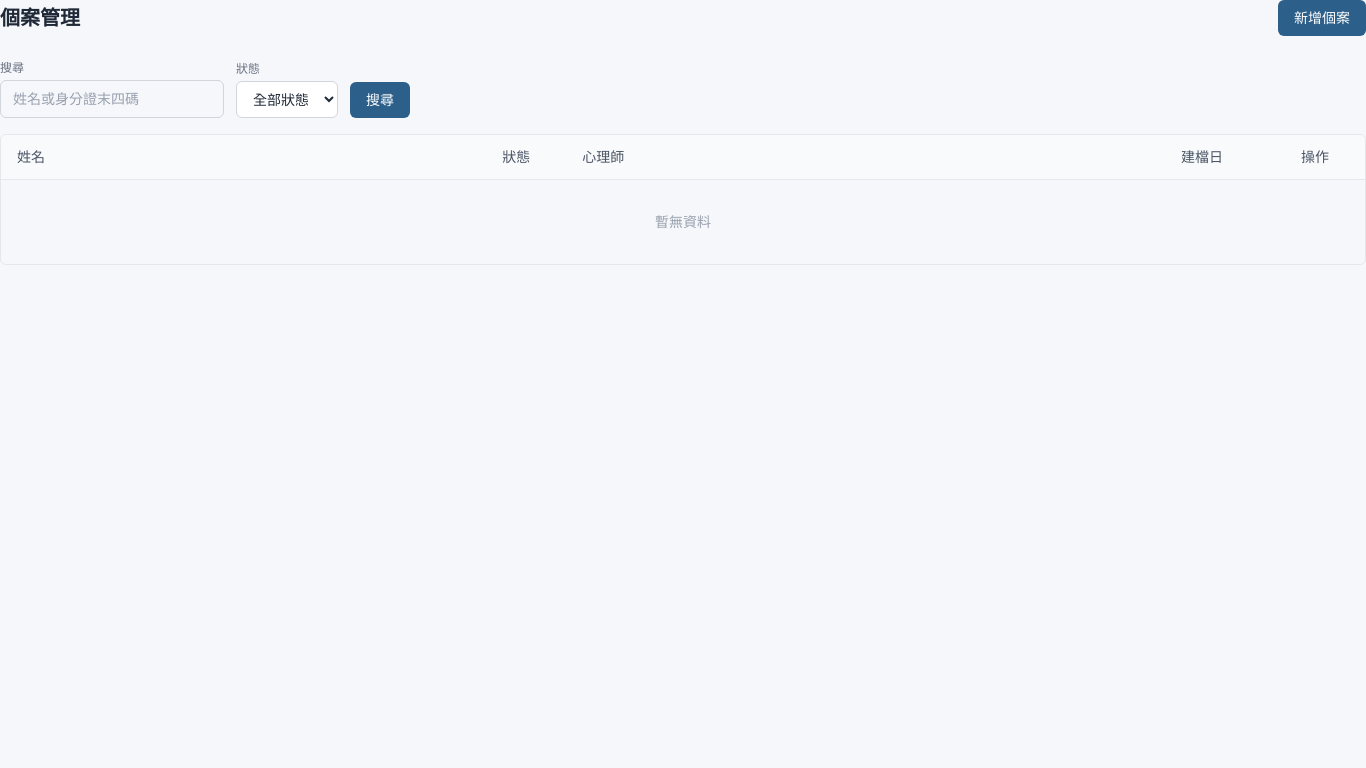
Test: ClientListView 建立個案 › 後端回傳初始帳密時，顯示給櫃檯交付
The width and height of the screenshot is (1366, 768).
Click the button "新增個案": [1322, 18] box [1278,0,1365,36]
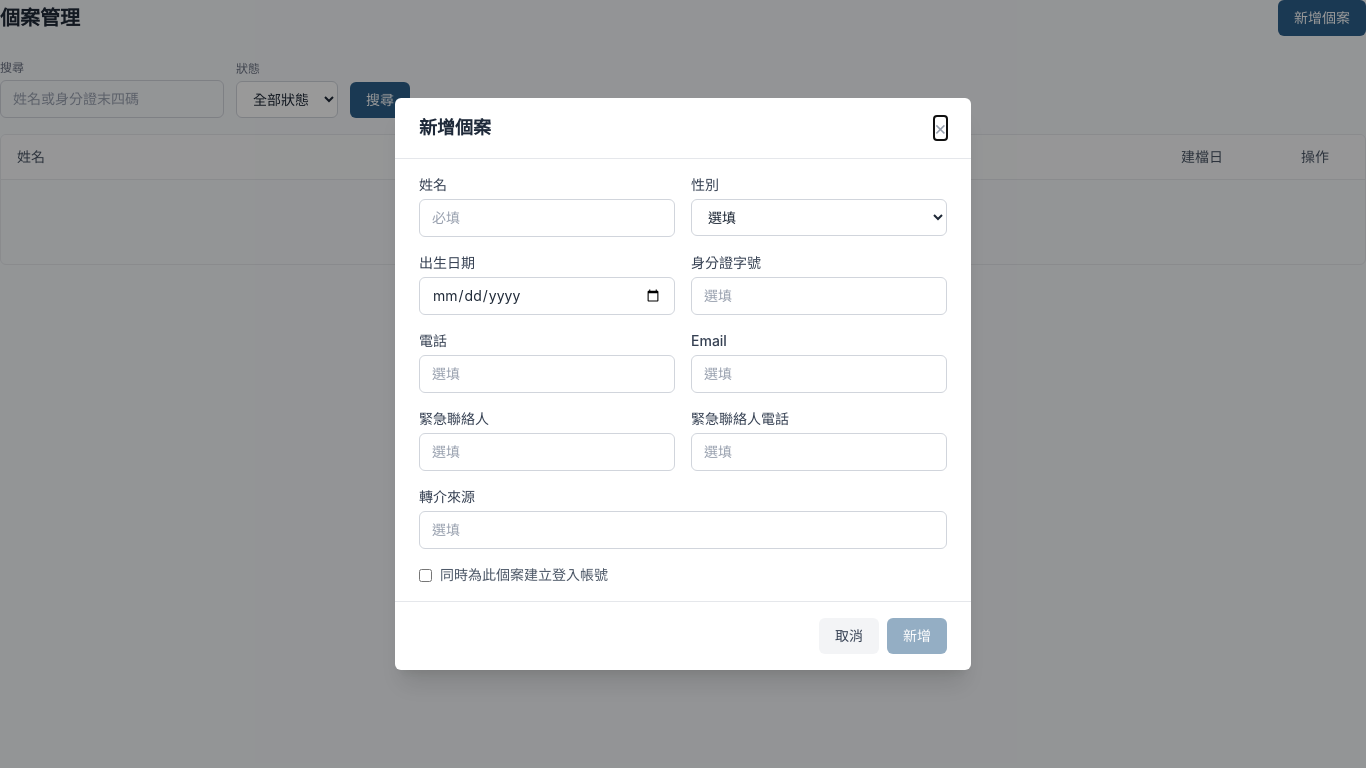
In the field with placeholder "必填": [547, 218] box [419,199,675,237], type "王小明"
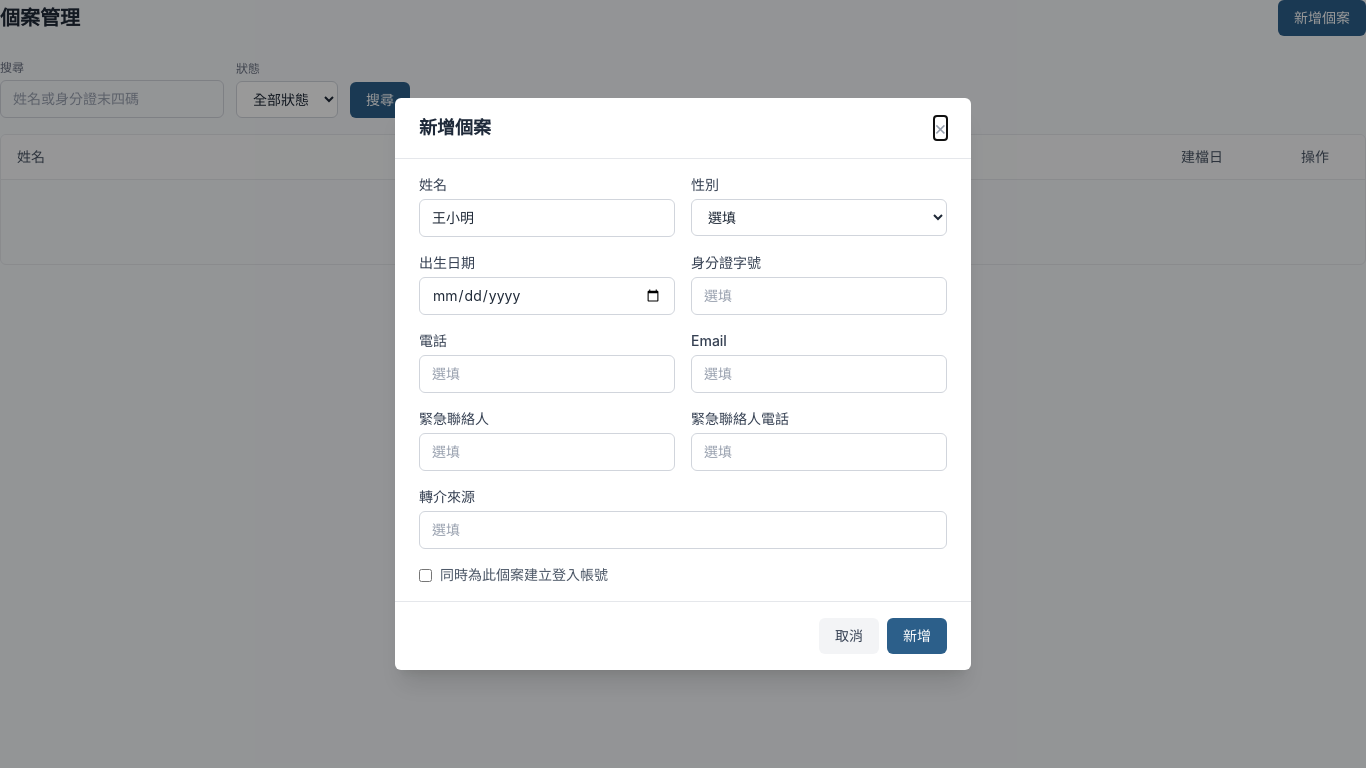
Click the button "新增": [917, 636] box [887,618,947,654]
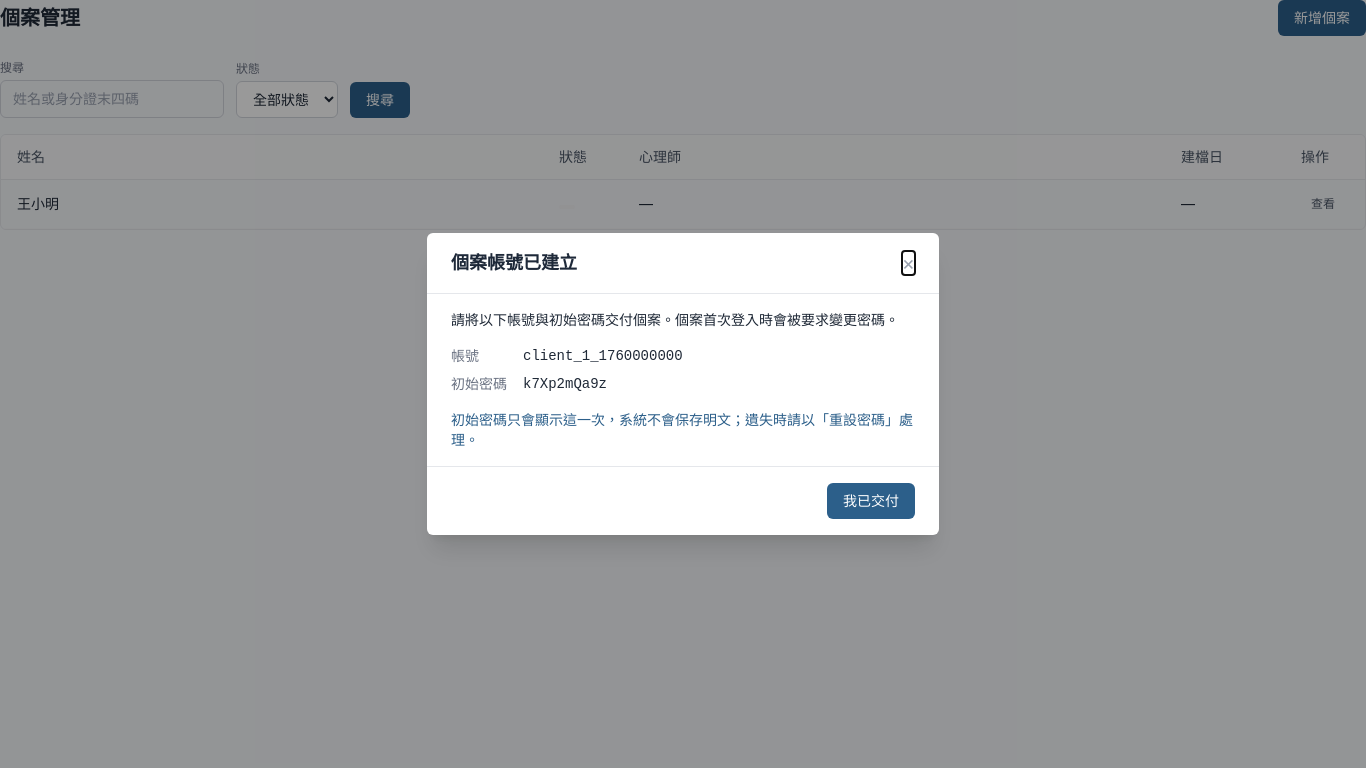
expect the text "個案帳號已建立" is shown: met, box [451,249,577,277]
expect the text "k7Xp2mQa9z" is shown: met, box [523,376,607,392]
